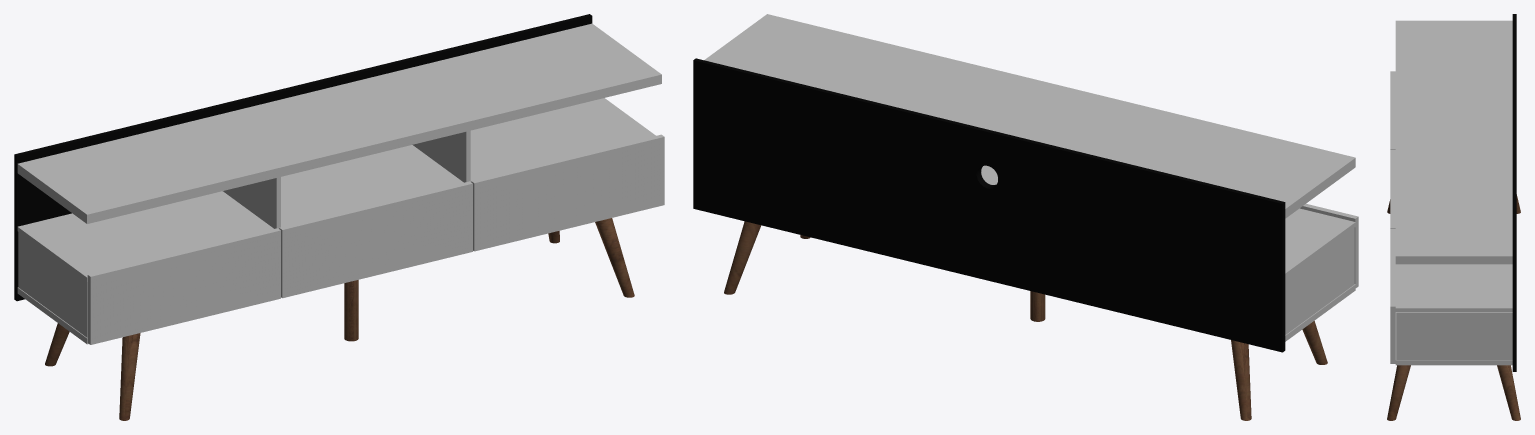
File: RackGLTF8.gltf
The picture shows the model from 3 angles, left to right: view 1: azimuth 30°, elevation 25°; view 2: azimuth 150°, elevation 25°; view 3: azimuth 270°, elevation 25°; orthographic projection. The views are drawn at different scales.
Parts seen in each view (by area): view 1: Box001, Box002, Box008, Box010, Box009, Box004, Plane002, Box006, Box007, VIFS077, VIFS079, VIFS069; view 2: Box004, Box001, Plane002, Box002, VIFS073, VIFS075, Box008; view 3: Box001, Box002, Plane001, Box004, Box011, Box010, VIFS079, VIFS075, Box008, Box009.
Boxes of the visible parts, box(x1,y1,x2,y2) form: Box001: box(17, 23, 661, 223); Box002: box(17, 98, 655, 281); Box008: box(87, 228, 280, 344); Box010: box(471, 134, 664, 251); Box009: box(279, 181, 472, 298); Box004: box(14, 14, 592, 301); Plane002: box(18, 232, 87, 337); Box006: box(412, 130, 470, 182); Box007: box(223, 177, 280, 228); VIFS077: box(119, 333, 140, 420); VIFS079: box(595, 218, 634, 297); VIFS069: box(344, 280, 358, 341); Box004: box(693, 58, 1285, 352); Box001: box(704, 14, 1355, 218); Plane002: box(1285, 228, 1354, 334); Box002: box(981, 165, 1355, 277); VIFS073: box(1231, 340, 1251, 420); VIFS075: box(724, 221, 761, 294); Box008: box(1300, 203, 1358, 287); Box001: box(1395, 20, 1512, 264); Box002: box(1395, 264, 1512, 311); Plane001: box(1396, 312, 1512, 359); Box004: box(1512, 14, 1516, 371); Box011: box(1395, 312, 1512, 365); Box010: box(1390, 228, 1395, 363); VIFS079: box(1387, 365, 1410, 420); VIFS075: box(1497, 365, 1520, 420); Box008: box(1390, 71, 1395, 149); Box009: box(1390, 150, 1395, 228).
Size of the model in its own units: 4.07 by 1.48 by 0.9772.
3 materials, 1 textured.
